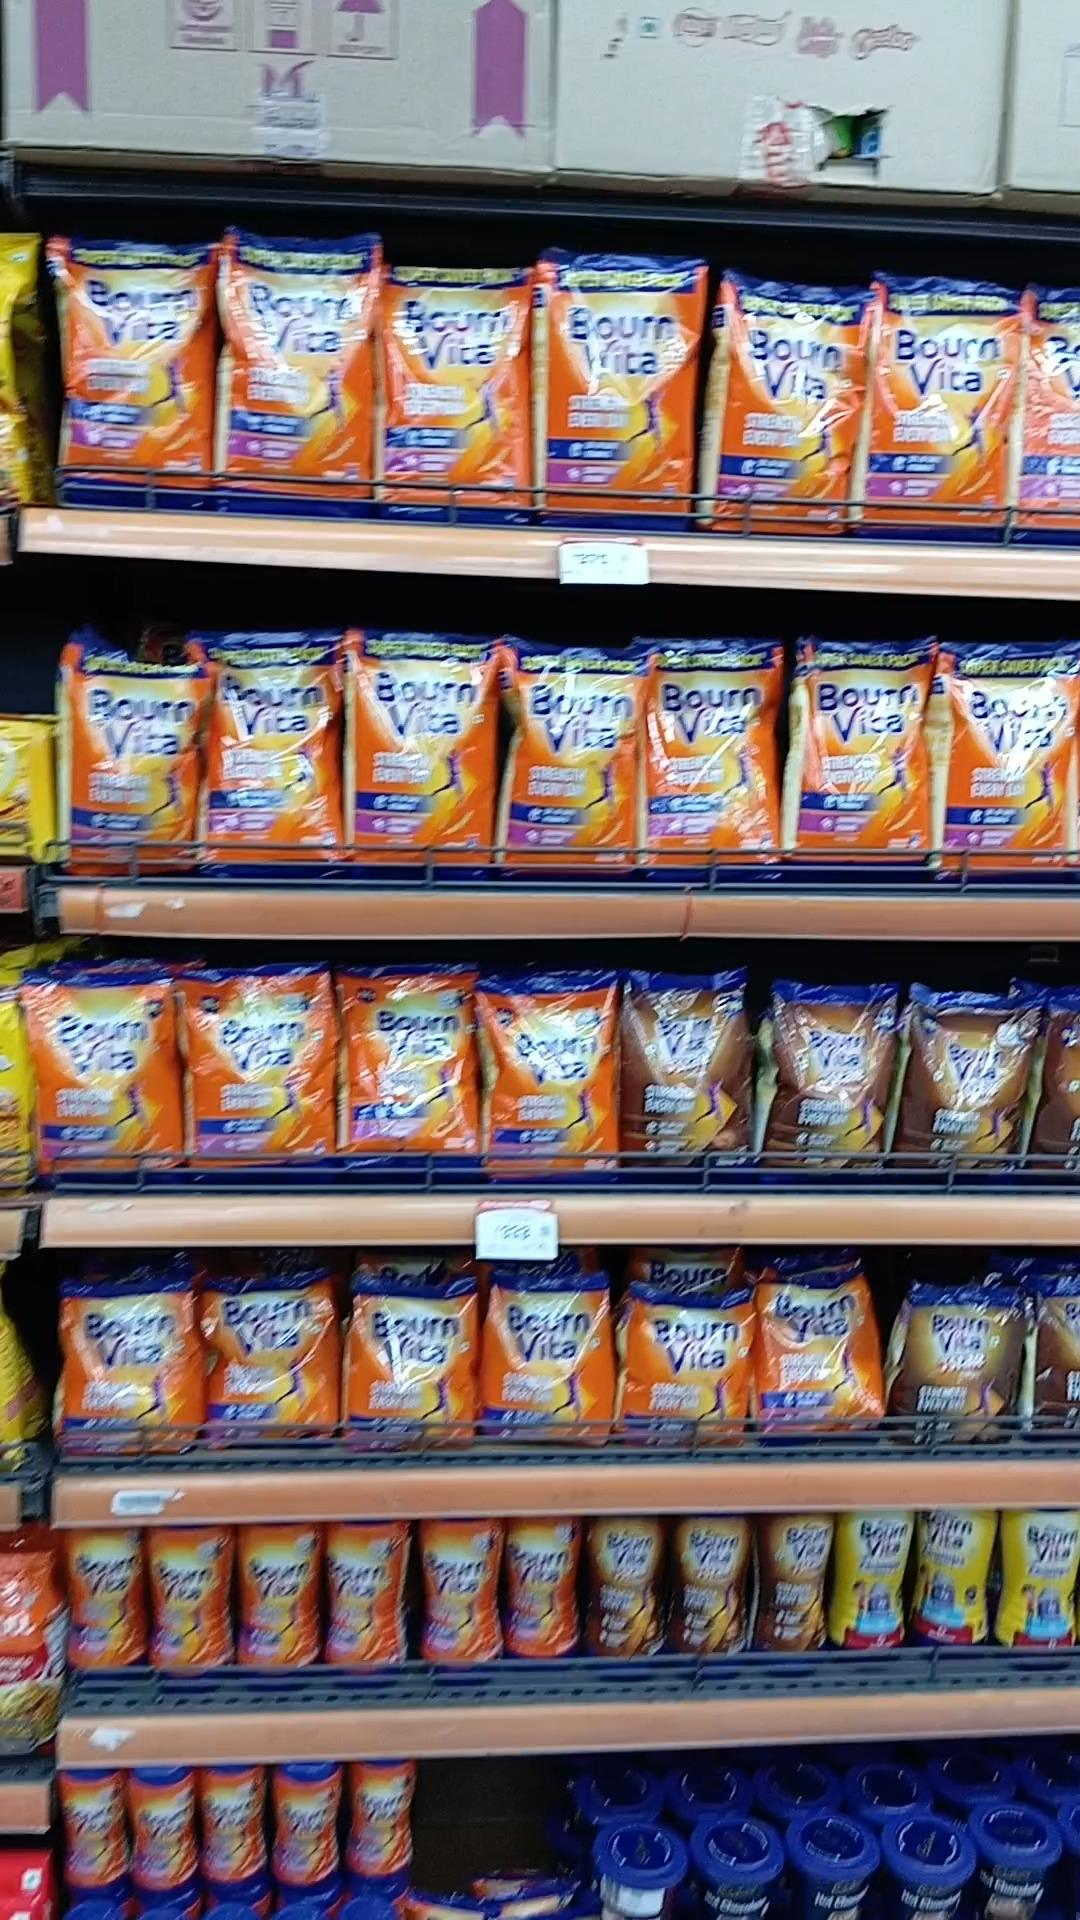BOURN_VITA_1_KG_POUCH: (538, 255, 696, 538), (222, 231, 377, 516), (54, 231, 210, 509), (858, 277, 1004, 543), (382, 262, 530, 522), (712, 273, 849, 535), (356, 637, 496, 894), (202, 638, 343, 890), (795, 634, 932, 893), (645, 637, 779, 890), (509, 649, 640, 893), (951, 650, 1080, 893), (69, 645, 194, 887)
BOURN_VITA_200_G_JAR: (274, 1758, 339, 1892), (133, 1764, 194, 1905), (348, 1754, 414, 1883), (58, 1764, 123, 1892), (206, 1764, 268, 1892)
BOURN_VITA_500_G_JAR: (235, 1520, 318, 1683), (421, 1514, 502, 1677), (148, 1524, 224, 1693), (59, 1523, 141, 1680), (326, 1524, 401, 1684), (508, 1515, 578, 1665)
BOURN_VITA_500_G_POUCH: (59, 1274, 186, 1465), (620, 1271, 745, 1451), (200, 1280, 328, 1455), (352, 1279, 472, 1460), (484, 1274, 604, 1451), (764, 1273, 876, 1449)
BOURN_VITA_750_G_POUCH: (30, 972, 170, 1193), (344, 964, 480, 1185), (189, 967, 319, 1188), (484, 972, 615, 1187)
BOURN_VITA_CHAMPS_500_G_JAR: (1004, 1506, 1080, 1659), (837, 1511, 913, 1660), (918, 1507, 986, 1660)
BOURN_VITA_FIVE_STAR_MAGIC_500_G_JAR: (583, 1514, 667, 1665), (675, 1511, 749, 1664), (756, 1513, 829, 1664)
BOURN_VITA_FIVE_STAR_MAGIC_500_G_POUCH: (910, 1287, 1014, 1452)
BOURN_VITA_FIVE_STAR_MAGIC_750_G_POUCH: (621, 967, 754, 1192), (767, 981, 894, 1197), (902, 990, 1031, 1192)
